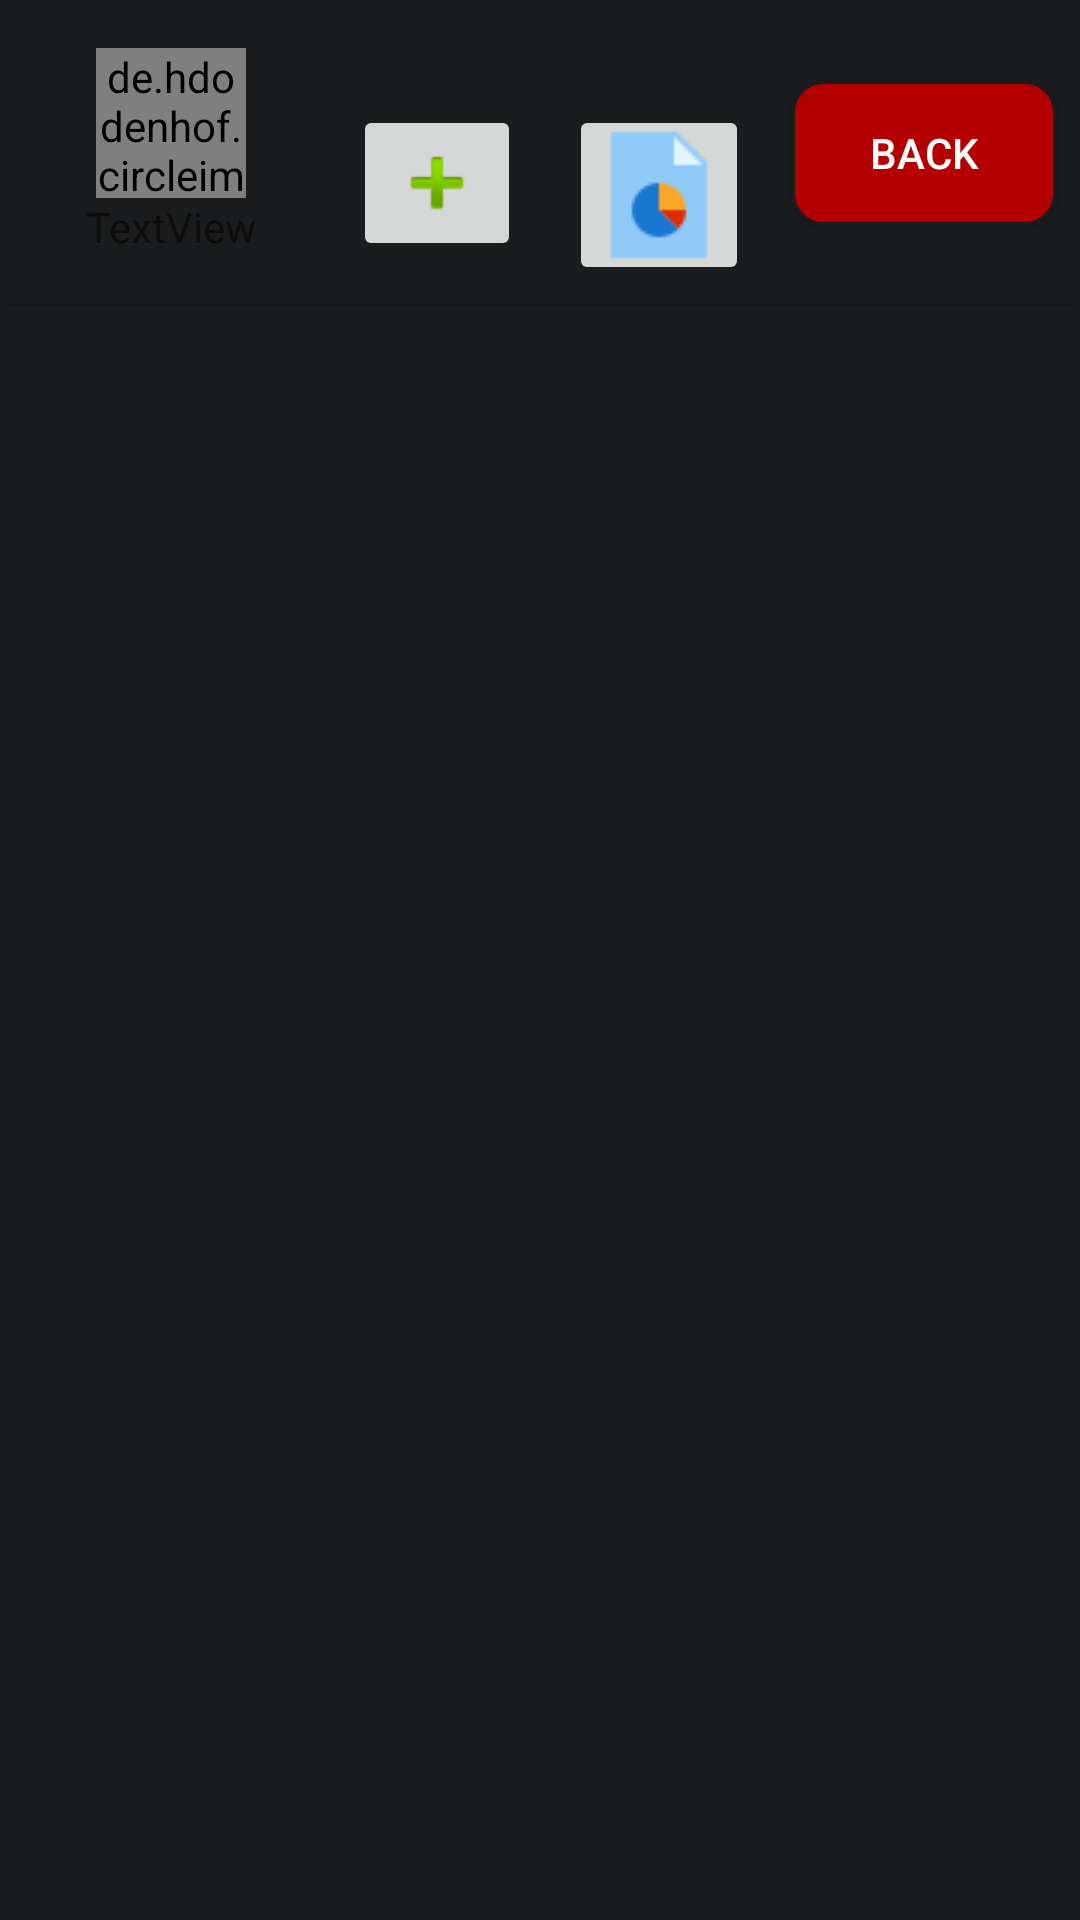

Where icons sit on this 1080 x 1920 app screen, as (x1, y1, x2, y2):
add: (365, 123, 509, 243)
statistics: (581, 123, 737, 267)
